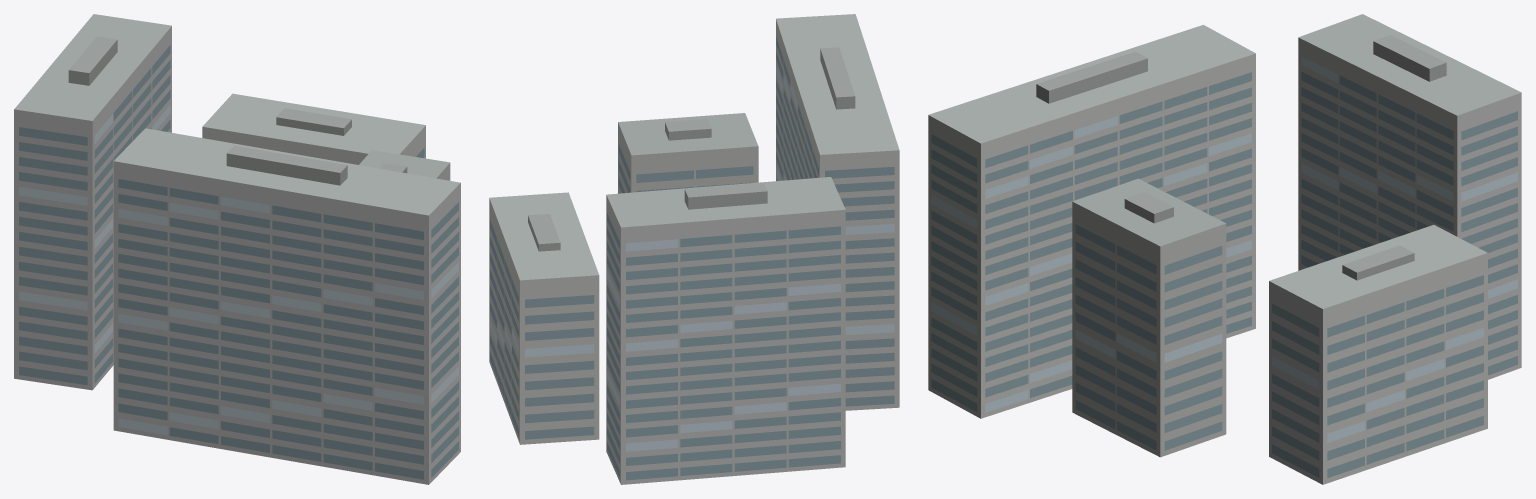
File: apt-a15885307.glb
3 renders of one model, left to right at view 1: azimuth 30°, elevation 25°; view 2: azimuth 150°, elevation 25°; view 3: azimuth 270°, elevation 25°, orthographic. The views are drawn at different scales.
Visible parts, largest first — view 1: apt-a15885307; view 2: apt-a15885307; view 3: apt-a15885307.
Boxes of the visible parts, x1=… form: apt-a15885307: x1=14, y1=14, x2=460, y2=484; apt-a15885307: x1=489, y1=14, x2=899, y2=484; apt-a15885307: x1=928, y1=14, x2=1521, y2=484.
Bounding box in the file's own units: 72.82 × 50 × 93.32.
